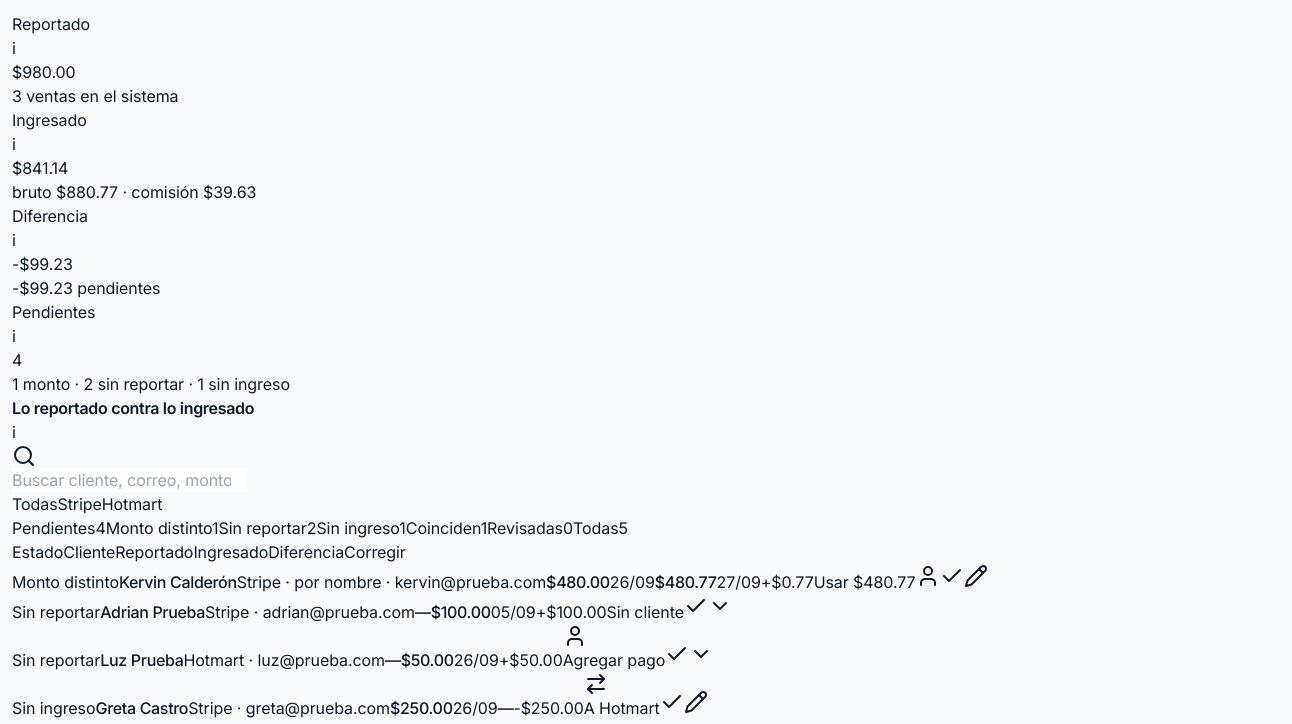
Scenario: Diferencias · KPIs y filtros › el buscador encuentra por nombre, correo o monto, sin tildes
Expected: the heading "Lo reportado contra lo ingresado" is shown, [12,398,254,418]
Type "calderon" into the search field named "Buscar en las diferencias".
click(129, 480); type("calderon")  # box [12,468,246,492]
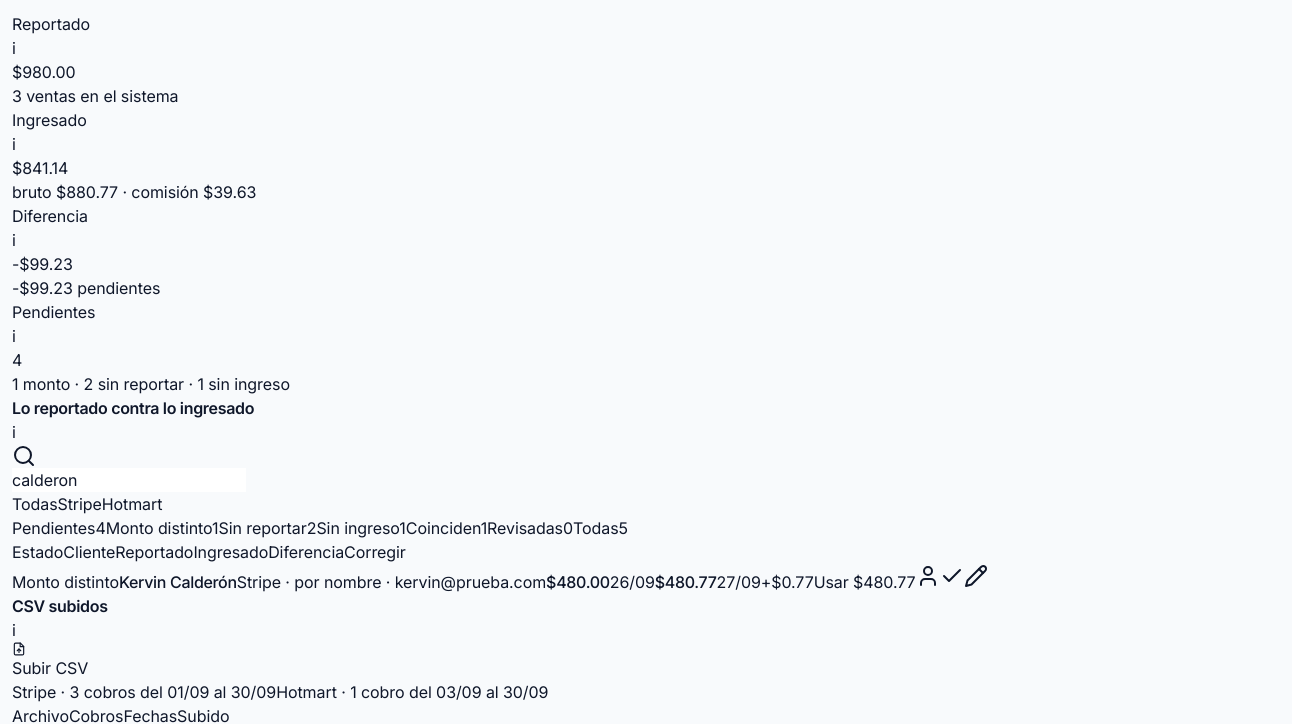
Replace the text in the search field named "Buscar en las diferencias" with "480.77" at coordinates (129, 480), box [12,468,246,492]
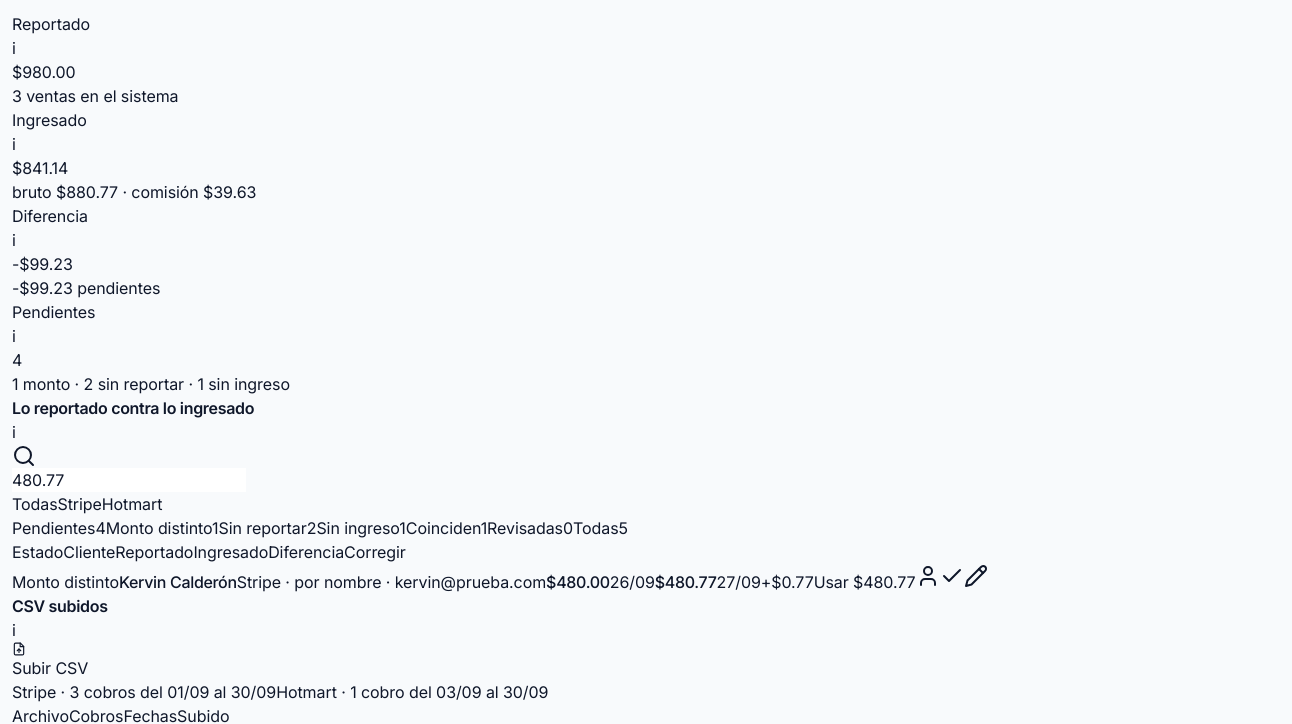
Replace the text in the search field named "Buscar en las diferencias" with "nadie" at coordinates (129, 480), box [12,468,246,492]
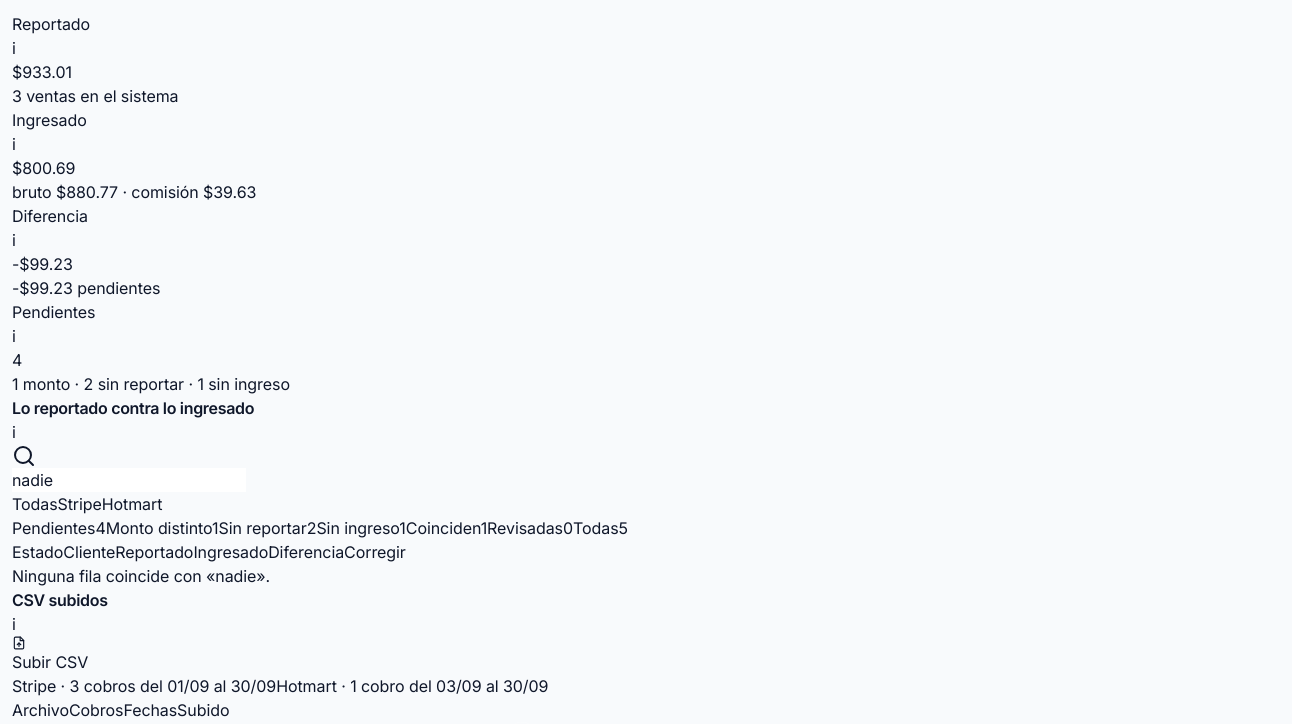
Now the text "Ninguna fila coincide con «nadie»." is shown, box [12,566,270,586]
